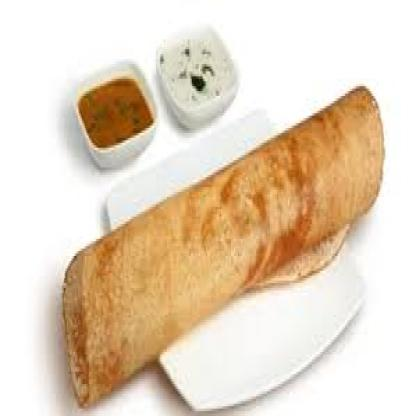dosa: (62, 85, 385, 408)
